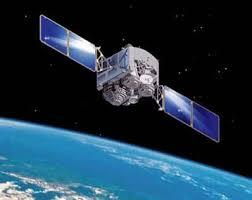body: (95, 43, 161, 108)
solar: (161, 83, 222, 145), (38, 12, 99, 74)
